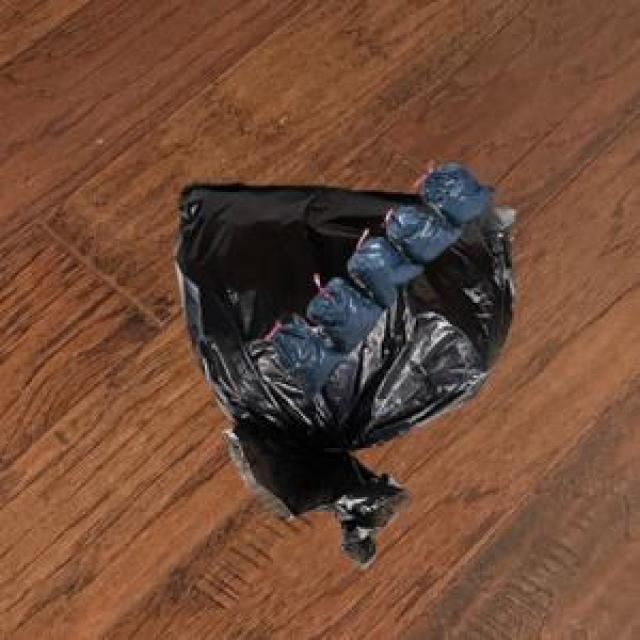Vinyl: (175, 164, 514, 567)
